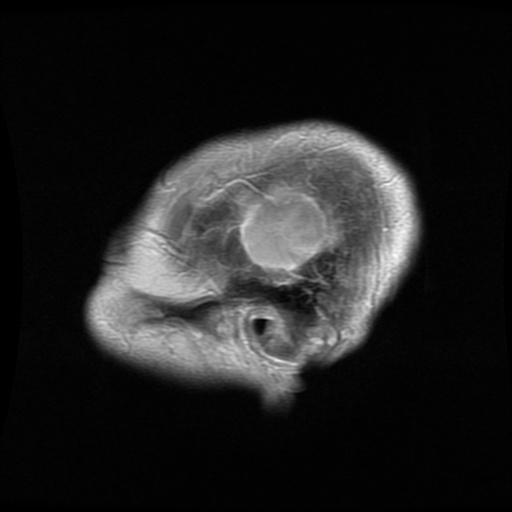meningioma: (239, 186, 333, 273)
